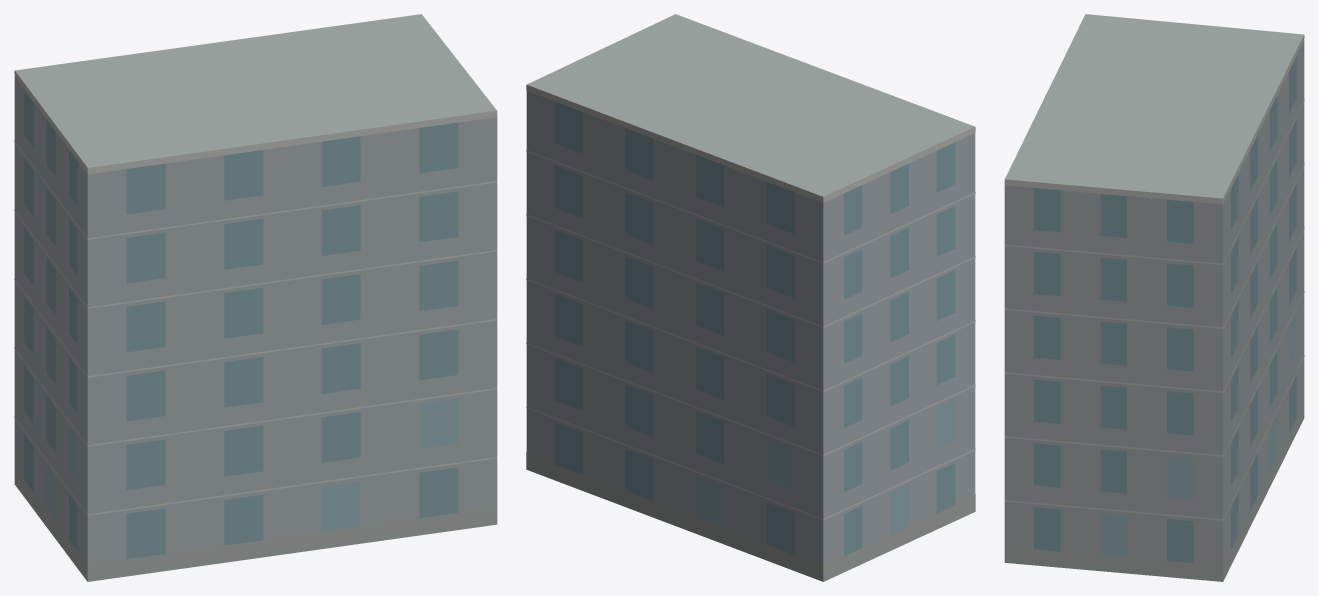
Rendered from survey-upis-32663396.glb.
3 renders of one model, left to right at view 1: azimuth 30°, elevation 25°; view 2: azimuth 150°, elevation 25°; view 3: azimuth 270°, elevation 25°, orthographic. The views are drawn at different scales.
Visible parts, largest first — view 1: survey-upis-32663396.tmp; view 2: survey-upis-32663396.tmp; view 3: survey-upis-32663396.tmp.
Part boxes in pixels (left/top/right/bottom): survey-upis-32663396.tmp: left=14, top=14, right=497, bottom=581; survey-upis-32663396.tmp: left=526, top=14, right=975, bottom=581; survey-upis-32663396.tmp: left=1004, top=14, right=1304, bottom=581.
Size of the model in its own units: 16.13 by 15.6 by 11.08.
